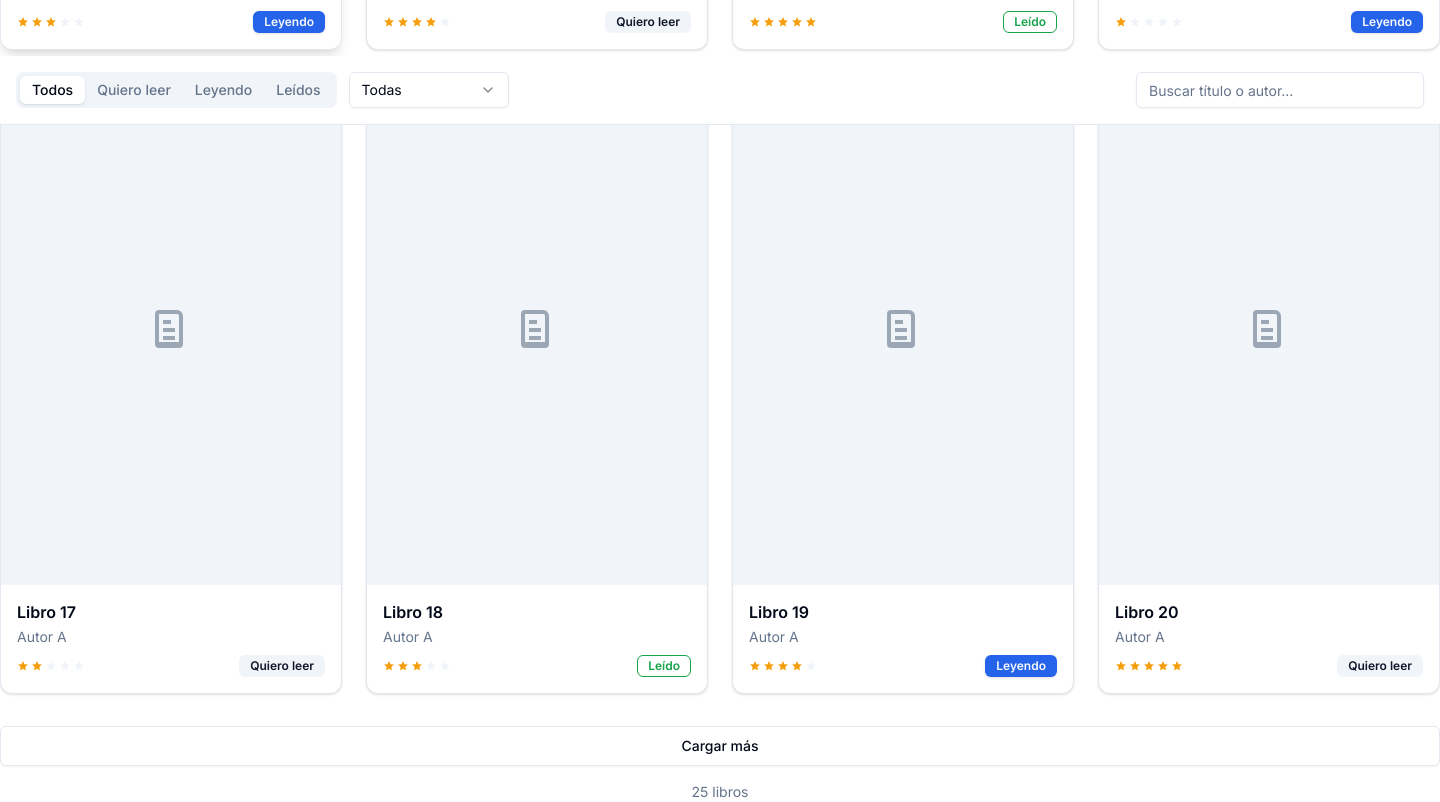
Test case: LibraryGrid › keeps loaded books and shows an inline error when load-more fails, then retries
(page scrolled)
Click the button with test id "load-more" at (720, 746), box top-left (0, 726), bottom-right (1439, 766)
(page scrolled)
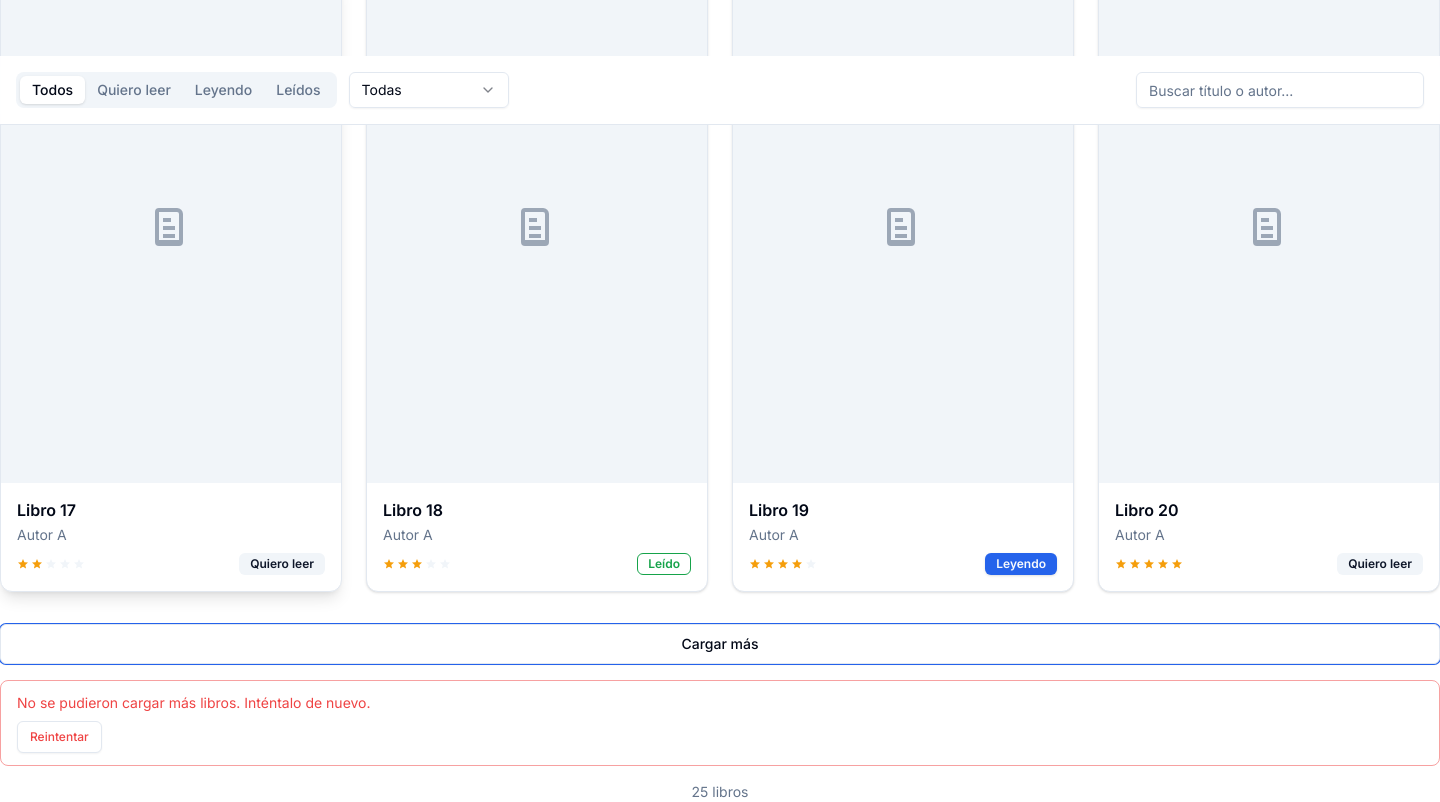
Expected: the element with test id "load-more-error" is shown, top-left (0, 680), bottom-right (1439, 766)
Click the button with test id "retry-load-more" at (59, 737), box top-left (17, 721), bottom-right (102, 753)
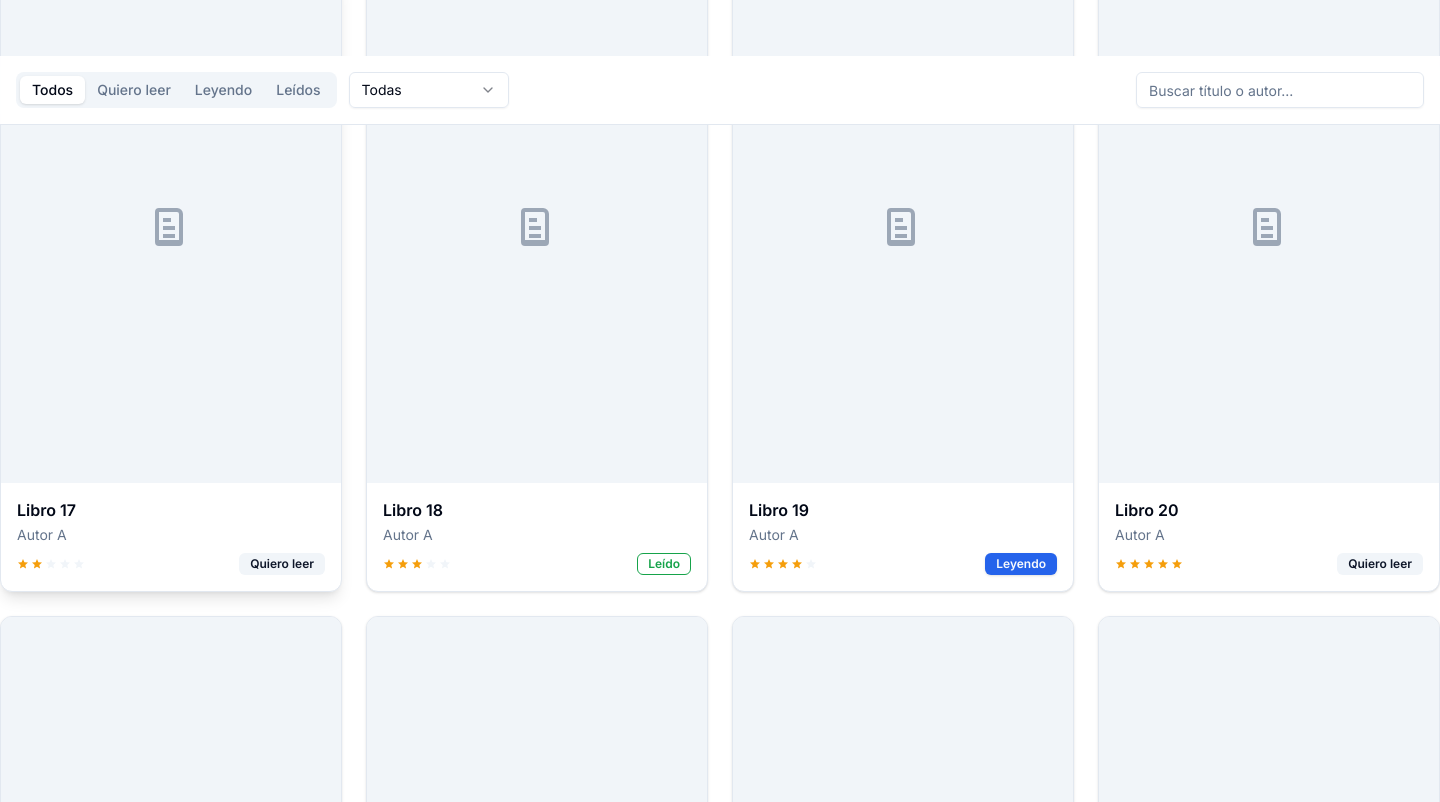
Expected: the element with test id "load-more-error" is gone
